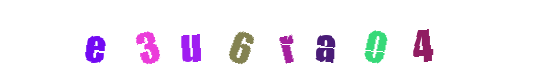0: (335, 0, 415, 80)
3: (110, 0, 190, 80)
4: (335, 0, 415, 80)
6: (230, 0, 310, 80)
A: (285, 0, 365, 80)
E: (104, 0, 184, 80)
R: (242, 0, 322, 80)
U: (201, 0, 281, 80)
